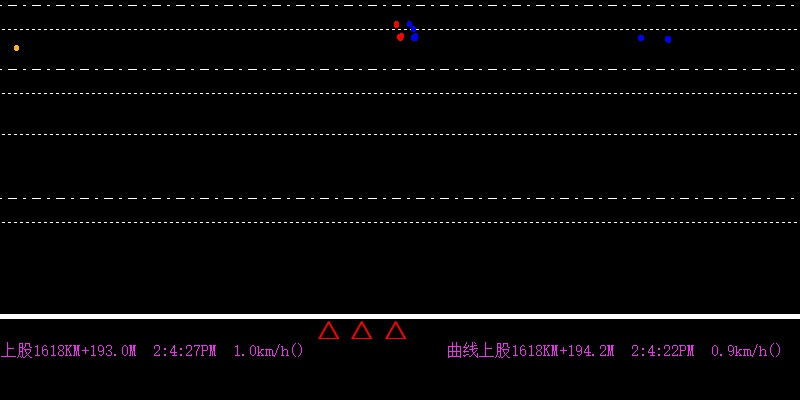face_1: (405, 16, 420, 43)
